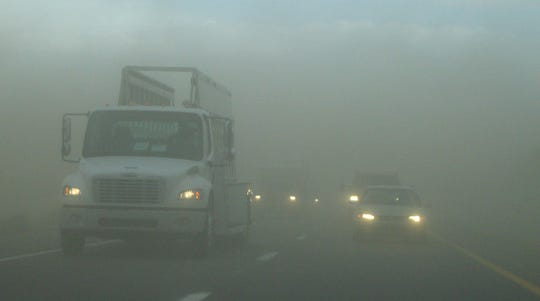car: (350, 185, 426, 238), (344, 166, 399, 216)
truck: (60, 64, 255, 255), (250, 155, 312, 217)
